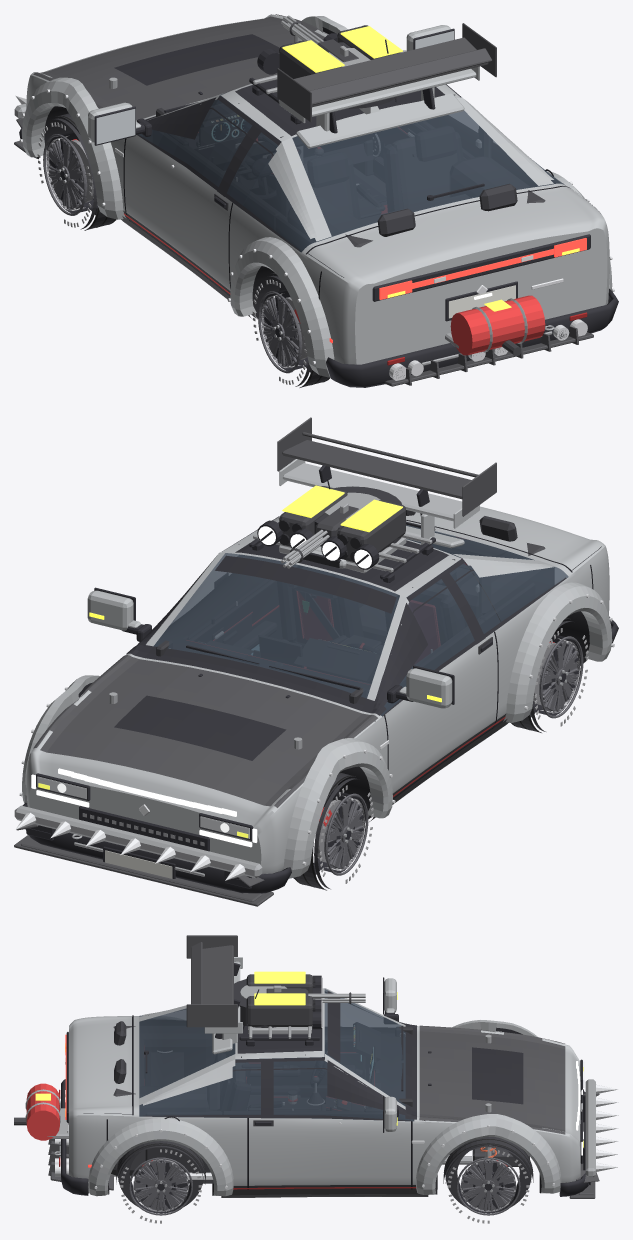
3 renders of one model, top to bottom at view 1: azimuth 30°, elevation 25°; view 2: azimuth 150°, elevation 25°; view 3: azimuth 270°, elevation 25°, orthographic. The views are drawn at different scales.
Parts seen in each view (by area): view 1: BODY, PART_flares_widebody, PART_hood_carbon, PART_spoiler_gt, MESH_DRIVER_WINDOW, PART_weapon_oil, PART_hood_vent, PART_spoiler_lip, PART_weapon_rockets, PART_spoiler_wing, PART_aero_r_diffuser, WHEEL_FL (+9 smaller); view 2: BODY, PART_hood_carbon, PART_flares_widebody, PART_spoiler_gt, PART_hood_vent, PART_weapon_rockets, MESH_DRIVER_WINDOW, PART_weapon_spikes, PART_roof_rack, PART_spoiler_wing, WHEEL_FL, PART_lights_bar (+8 smaller); view 3: BODY, PART_hood_carbon, PART_flares_widebody, PART_spoiler_gt, PART_weapon_rockets, PART_hood_vent, WHEEL_FR, PART_weapon_oil, WHEEL_RR, PART_weapon_spikes, PART_roof_rack, PART_skirt_aero (+11 smaller).
Part boxes in pixels (bbox=[...]): BODY: bbox=[19, 14, 618, 387]; PART_flares_widebody: bbox=[19, 16, 614, 377]; PART_hood_carbon: bbox=[33, 14, 327, 120]; PART_spoiler_gt: bbox=[277, 23, 496, 133]; MESH_DRIVER_WINDOW: bbox=[138, 95, 281, 205]; PART_weapon_oil: bbox=[445, 295, 545, 356]; PART_hood_vent: bbox=[114, 34, 279, 85]; PART_spoiler_lip: bbox=[296, 93, 464, 148]; PART_weapon_rockets: bbox=[279, 26, 402, 78]; PART_spoiler_wing: bbox=[279, 66, 479, 131]; PART_aero_r_diffuser: bbox=[384, 326, 593, 386]; WHEEL_FL: bbox=[37, 113, 116, 230]; BODY: bbox=[22, 478, 618, 893]; PART_hood_carbon: bbox=[33, 655, 377, 807]; PART_flares_widebody: bbox=[19, 582, 614, 878]; PART_spoiler_gt: bbox=[277, 417, 496, 530]; PART_hood_vent: bbox=[114, 695, 286, 760]; PART_weapon_rockets: bbox=[279, 485, 406, 573]; MESH_DRIVER_WINDOW: bbox=[381, 559, 500, 716]; PART_weapon_spikes: bbox=[14, 805, 262, 880]; PART_roof_rack: bbox=[249, 486, 435, 582]; PART_spoiler_wing: bbox=[279, 459, 479, 544]; WHEEL_FL: bbox=[293, 772, 373, 890]; PART_lights_bar: bbox=[36, 768, 252, 846]; BODY: bbox=[54, 977, 590, 1196]; PART_hood_carbon: bbox=[419, 1025, 565, 1134]; PART_flares_widebody: bbox=[88, 1016, 561, 1196]; PART_spoiler_gt: bbox=[186, 935, 240, 1038]; PART_weapon_rockets: bbox=[246, 971, 315, 1034]; PART_hood_vent: bbox=[472, 1047, 523, 1104]; WHEEL_FR: bbox=[443, 1137, 533, 1223]; PART_weapon_oil: bbox=[14, 1083, 68, 1140]; WHEEL_RR: bbox=[116, 1141, 205, 1223]; PART_weapon_spikes: bbox=[585, 1079, 618, 1177]; PART_roof_rack: bbox=[234, 975, 322, 1046]; PART_skirt_aero: bbox=[221, 1189, 428, 1197].
Size of the model in its own units: 2.48 by 1.77 by 4.73.
